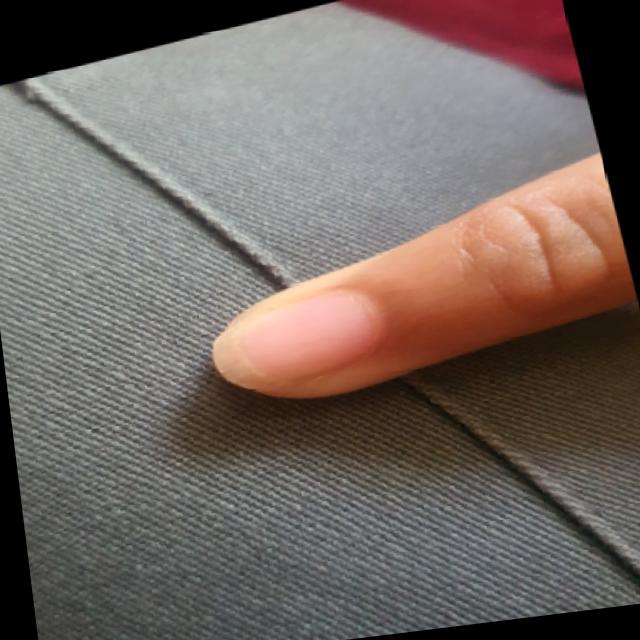Nail: (209, 284, 372, 386)
